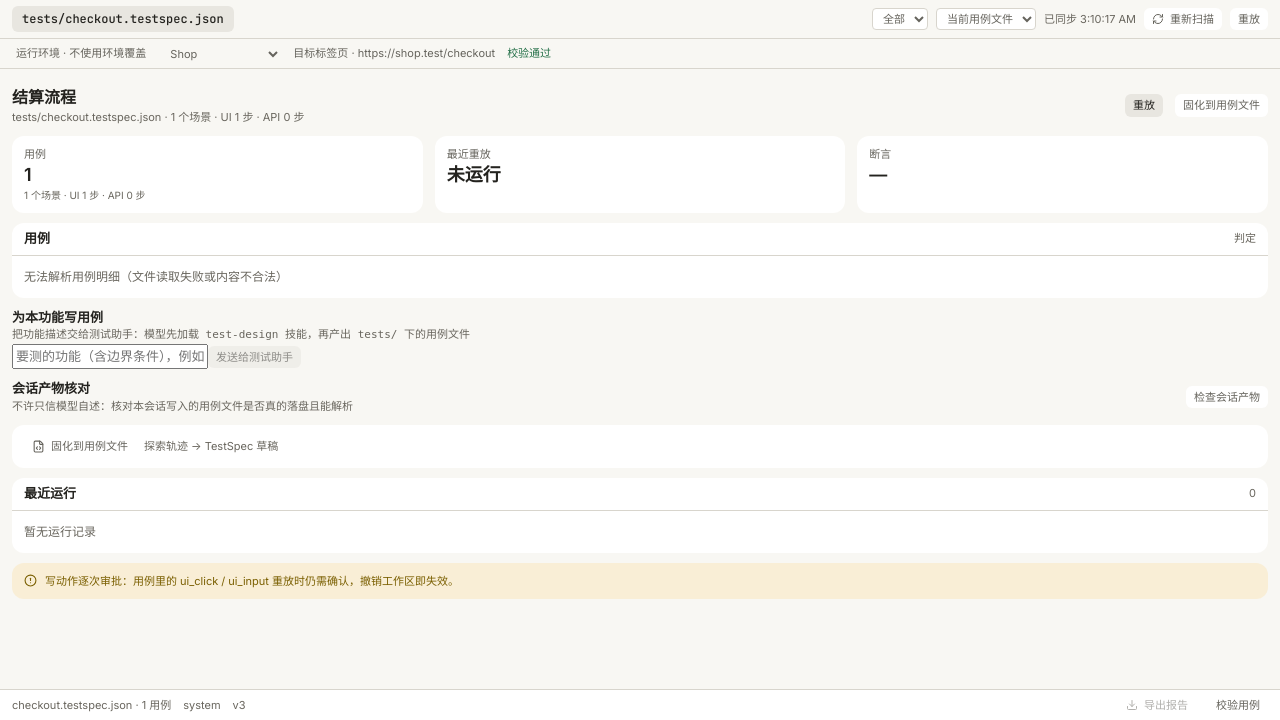
Test: TestingView run flow › surfaces an explicit message when the source session has no explorable steps
The width and height of the screenshot is (1280, 720).
What coordinates should you click on to do the following:
click the button "固化到用例文件" next to "探索轨迹 → TestSpec 草稿"
I would click on:
 (80, 446)
Its box is [24, 435, 136, 458].
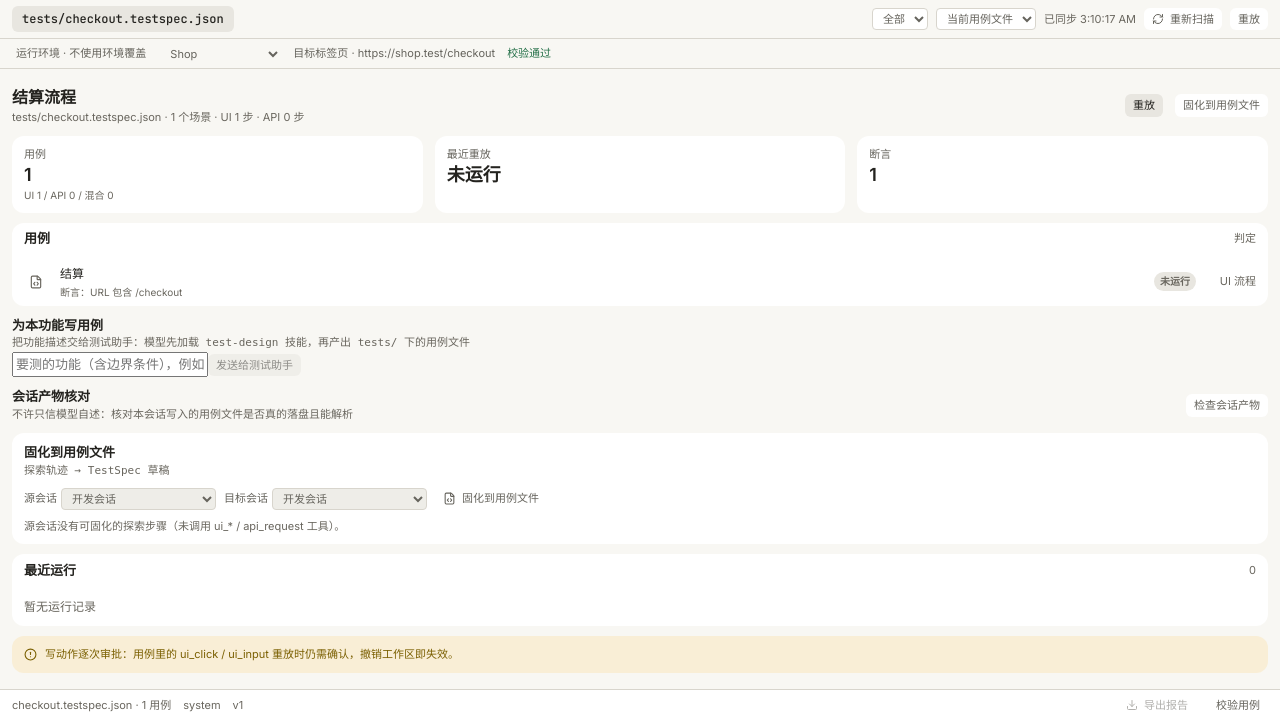
Now the text "源会话没有可固化的探索步骤（未调用 ui_* / api_request 工具）。" is shown, box [24, 519, 345, 533]
